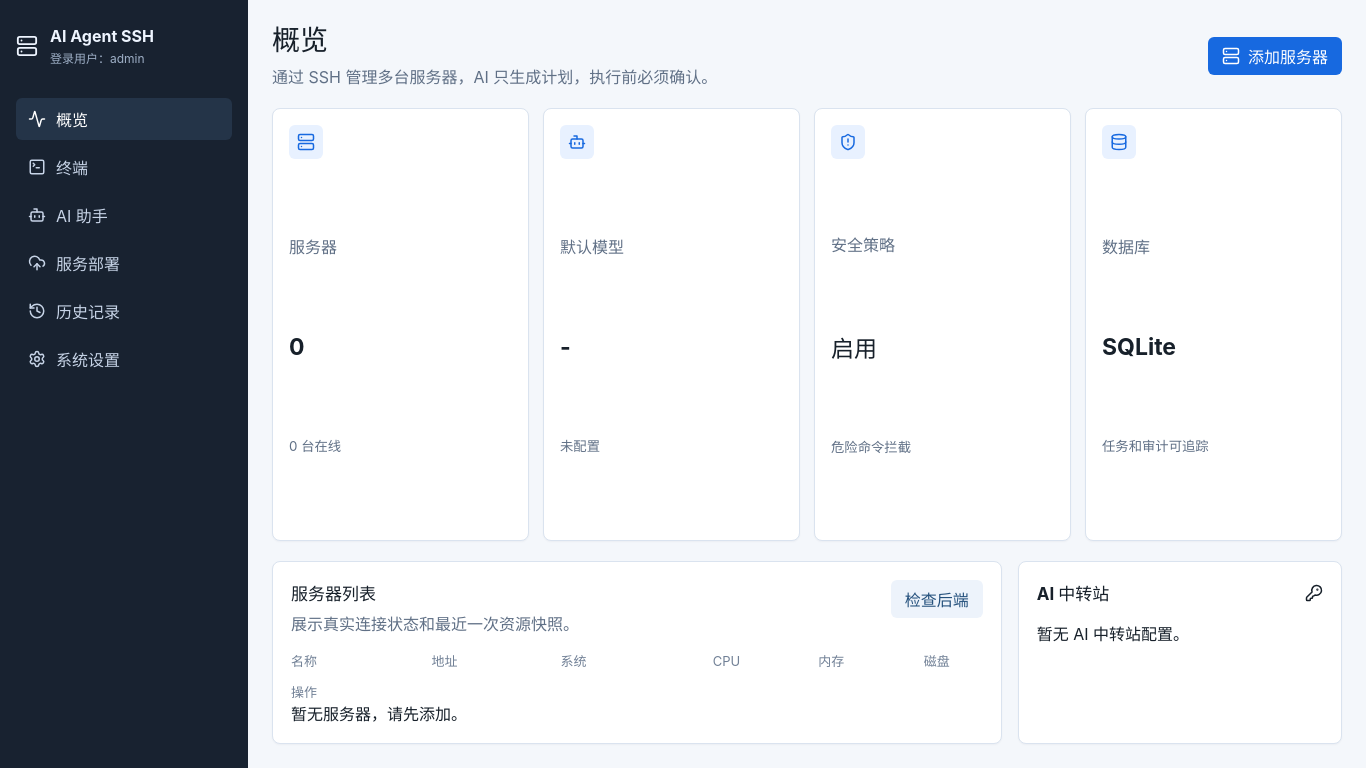
App interactions › checks a dangerous command through the API
The image size is (1366, 768).
Click the button "AI 助手". click: (124, 215)
box: [16,194,232,236]
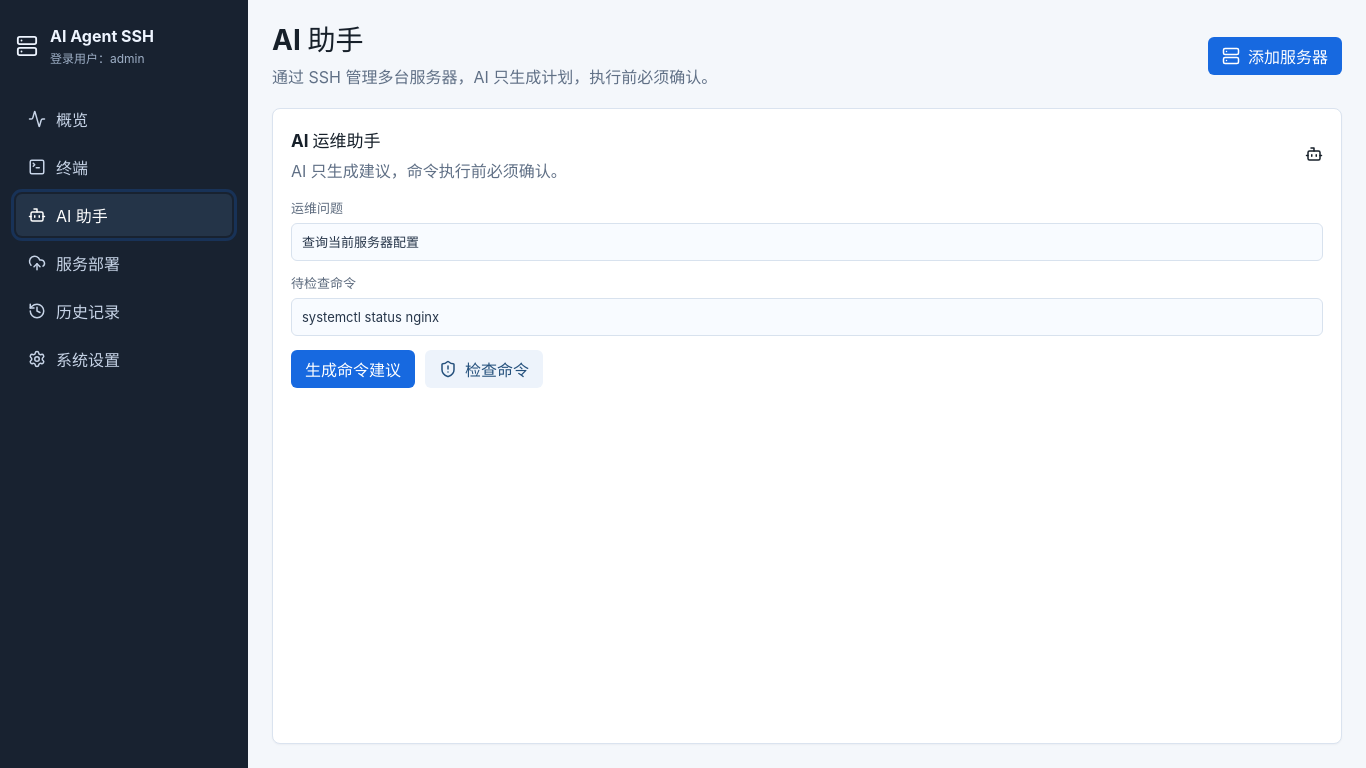
Replace the text in the field labelled "待检查命令" with "rm -rf /". click: (807, 317)
box: [291,298,1323,336]
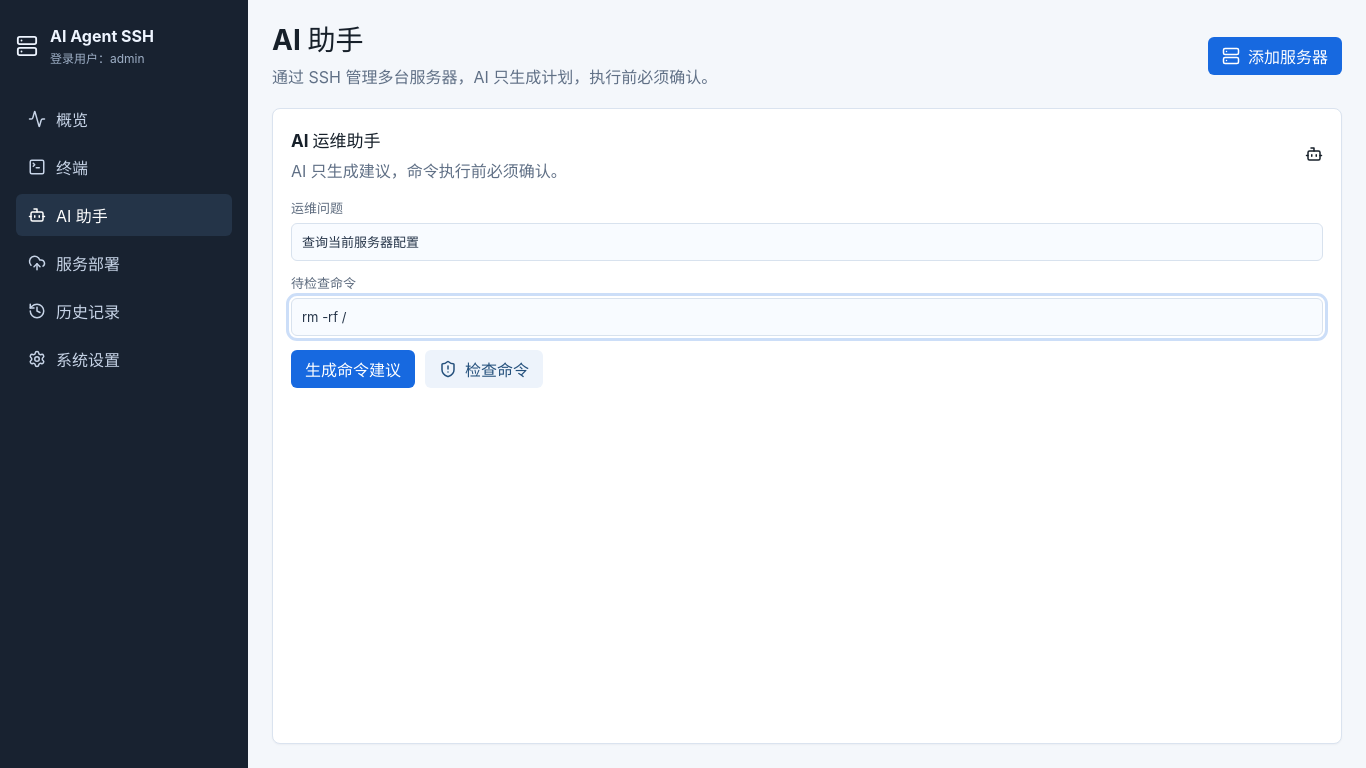
Click the button "检查命令". click: (484, 369)
box: [425,350,543,388]
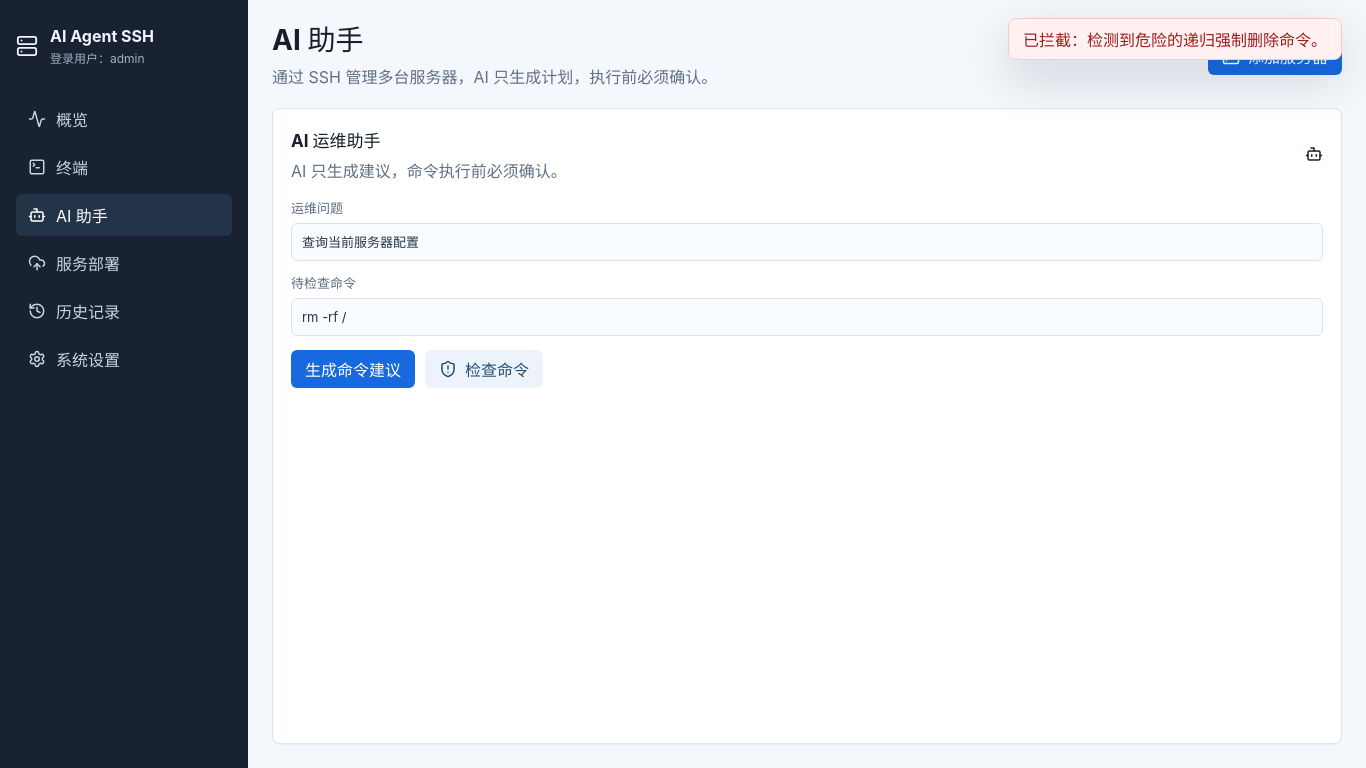
Result: the text "已拦截：检测到危险的递归强制删除命令。" is shown at [1008,18,1342,60]
